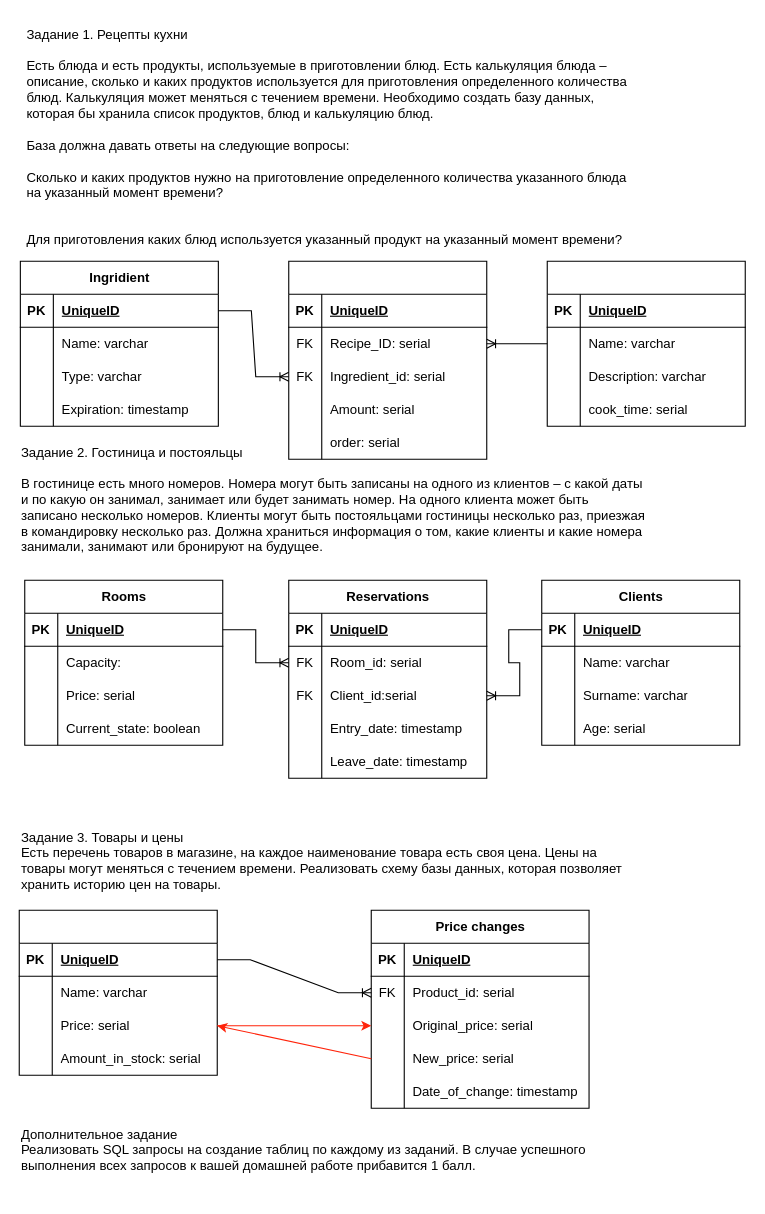
Image size: 765x1214. Some labels were removed from this diagram. Here are the shapes that lost their labels. From the top down, the box of each, then its label:
(288, 260, 487, 459): Calculation
(546, 260, 745, 426): Recipee
(18, 909, 217, 1075): Store products
